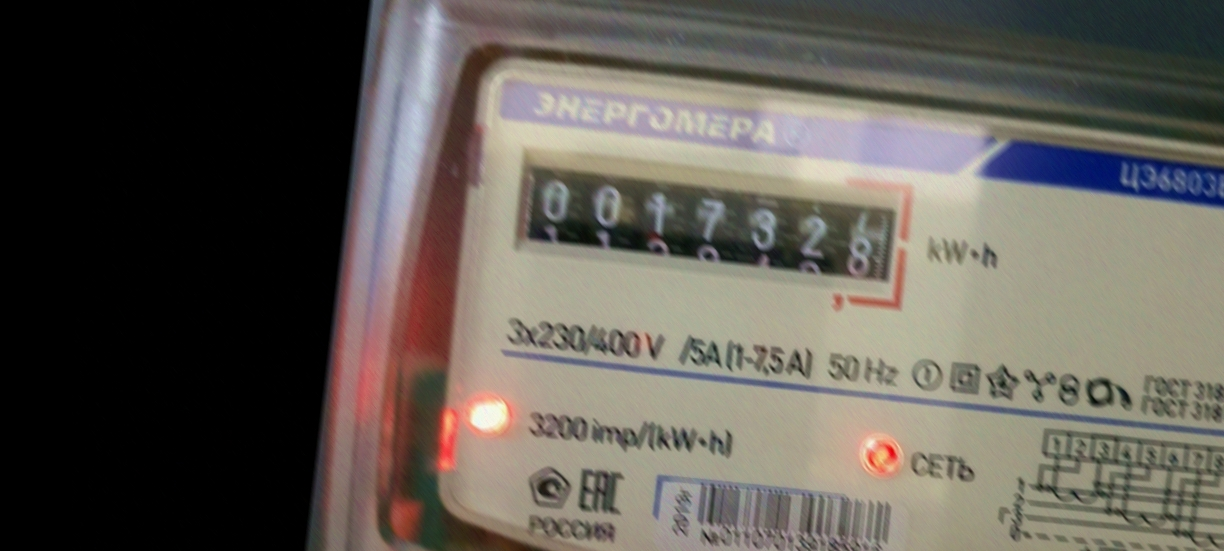0: (539, 177, 576, 224), (593, 180, 627, 229)
1: (646, 188, 673, 236)
2: (798, 212, 832, 260)
3: (749, 205, 781, 251)
7: (696, 195, 728, 244)
8: (845, 233, 875, 278)
screen: (502, 139, 924, 315)
